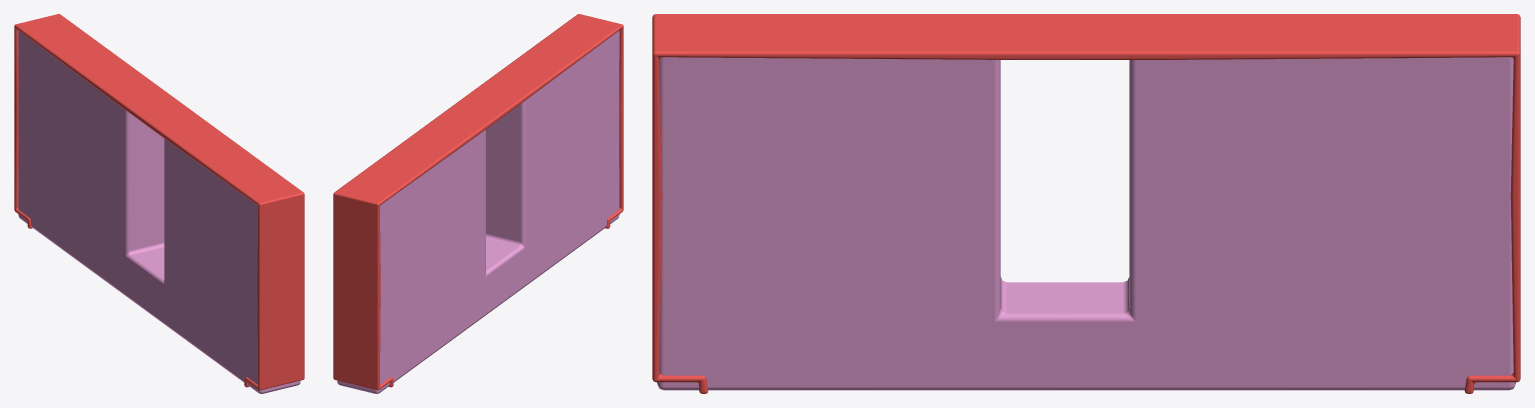
Rendered from wall02.fbx.
The picture shows the model from 3 angles, left to right: view 1: azimuth 30°, elevation 25°; view 2: azimuth 150°, elevation 25°; view 3: azimuth 270°, elevation 25°; orthographic projection. The views are drawn at different scales.
Visible parts, largest first — view 1: png1,1, wallOutside.002; view 2: png1,1, wallOutside.002; view 3: png1,1, wallOutside.002.
Part boxes in pixels (<box>): png1,1: <box>18,30,300,393</box>; wallOutside.002: <box>14,14,304,390</box>; png1,1: <box>337,30,619,393</box>; wallOutside.002: <box>333,14,623,390</box>; png1,1: <box>657,57,1515,390</box>; wallOutside.002: <box>652,14,1520,393</box>.
Bounding box in the file's own units: 218 × 878 × 2014.
